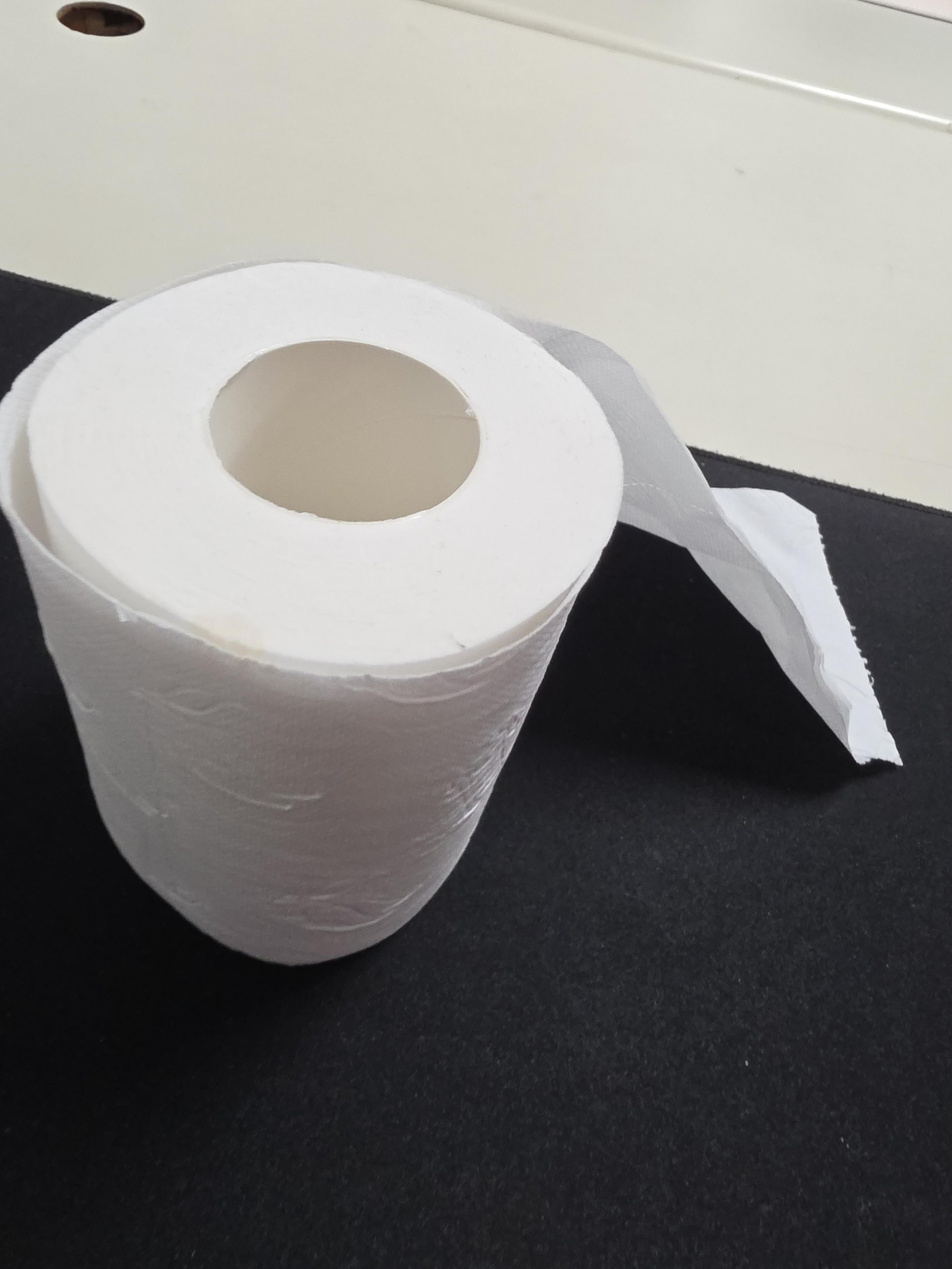tissue: (0, 260, 904, 965)
